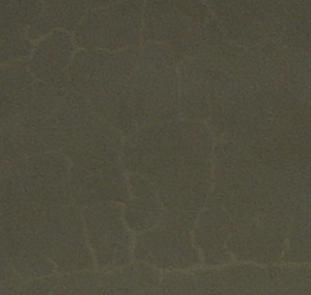fissura: (10, 12, 311, 283)
